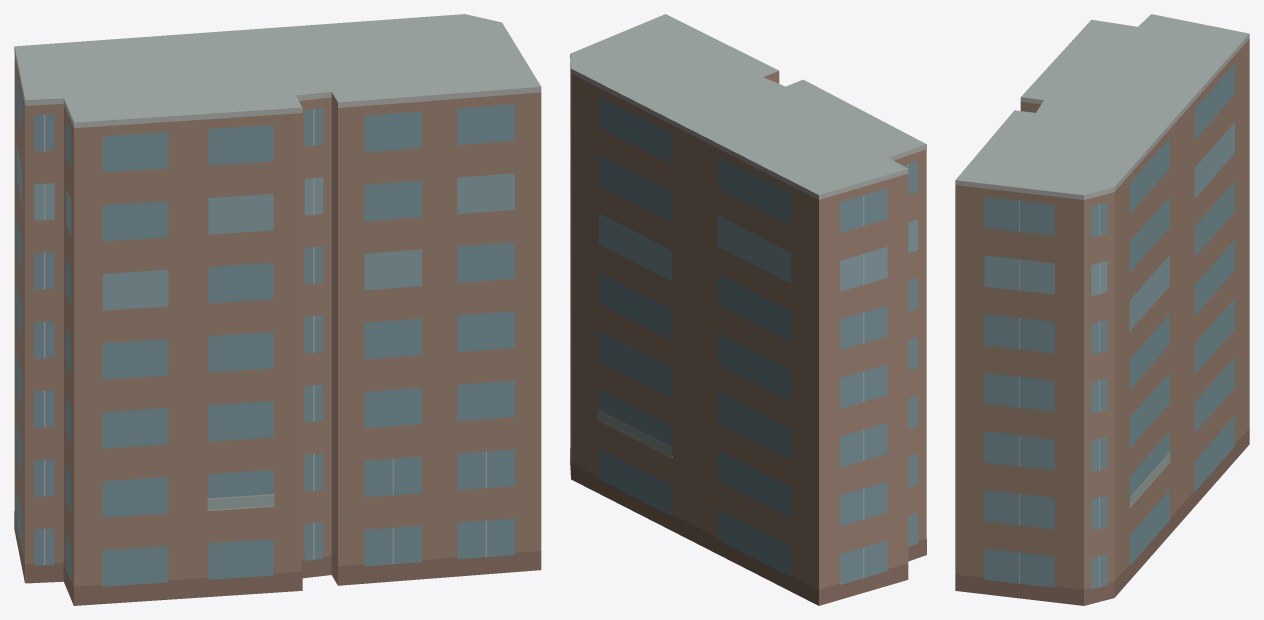
Rendered from survey-upis-33019293.glb.
3 views of the same model, side by side, from view 1: azimuth 30°, elevation 25°; view 2: azimuth 150°, elevation 25°; view 3: azimuth 270°, elevation 25° (orthographic). The views are drawn at different scales.
Parts seen in each view (by area): view 1: survey-upis-33019293.tmp; view 2: survey-upis-33019293.tmp; view 3: survey-upis-33019293.tmp.
Part boxes in pixels (x1=…): survey-upis-33019293.tmp: x1=14, y1=14, x2=541, y2=605; survey-upis-33019293.tmp: x1=570, y1=14, x2=926, y2=605; survey-upis-33019293.tmp: x1=955, y1=14, x2=1249, y2=605.
Size of the model in its own units: 20.09 by 21.2 by 13.79.
